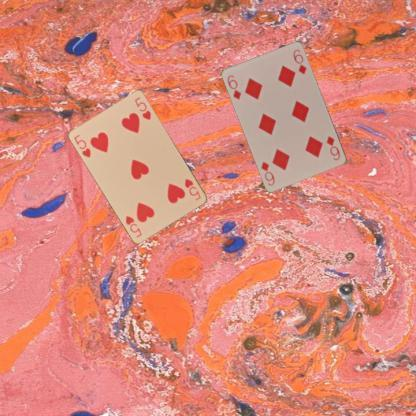5h: (72, 132, 92, 159), (182, 176, 202, 202)
6d: (324, 133, 342, 162), (224, 72, 242, 101)
